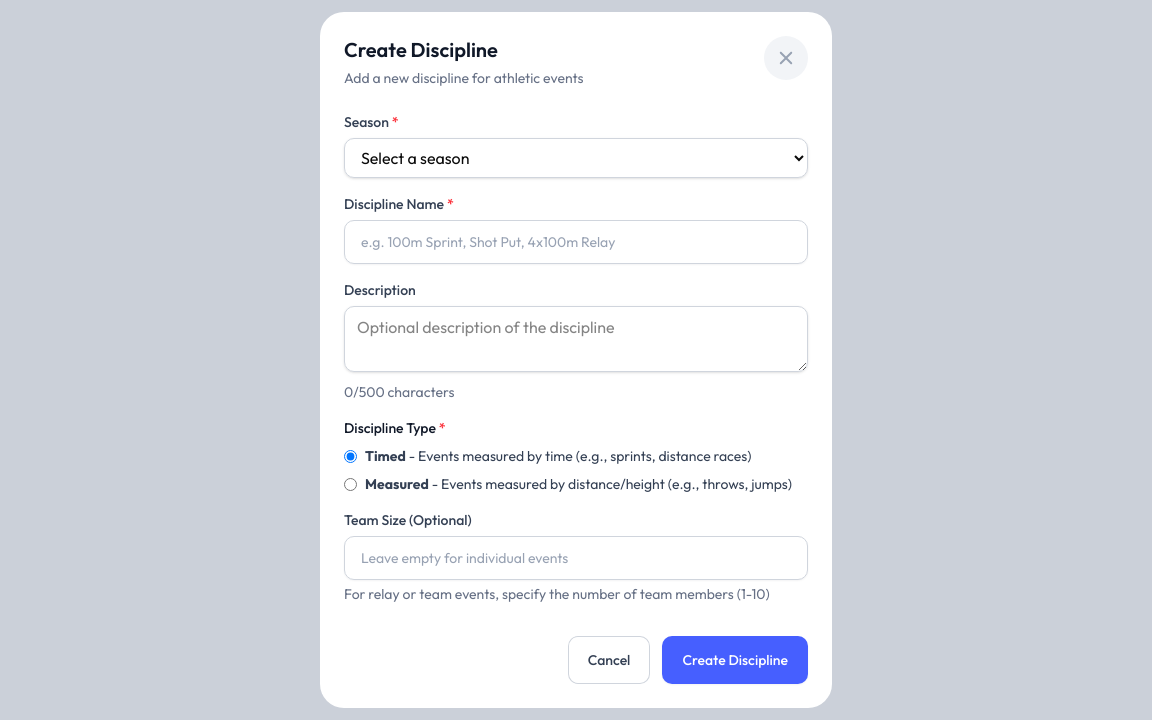
it: DisciplineModal › Create Mode › should validate required fields
The width and height of the screenshot is (1152, 720).
Click the button "Create Discipline" at {"x": 735, "y": 660}, box [662,636,808,684]
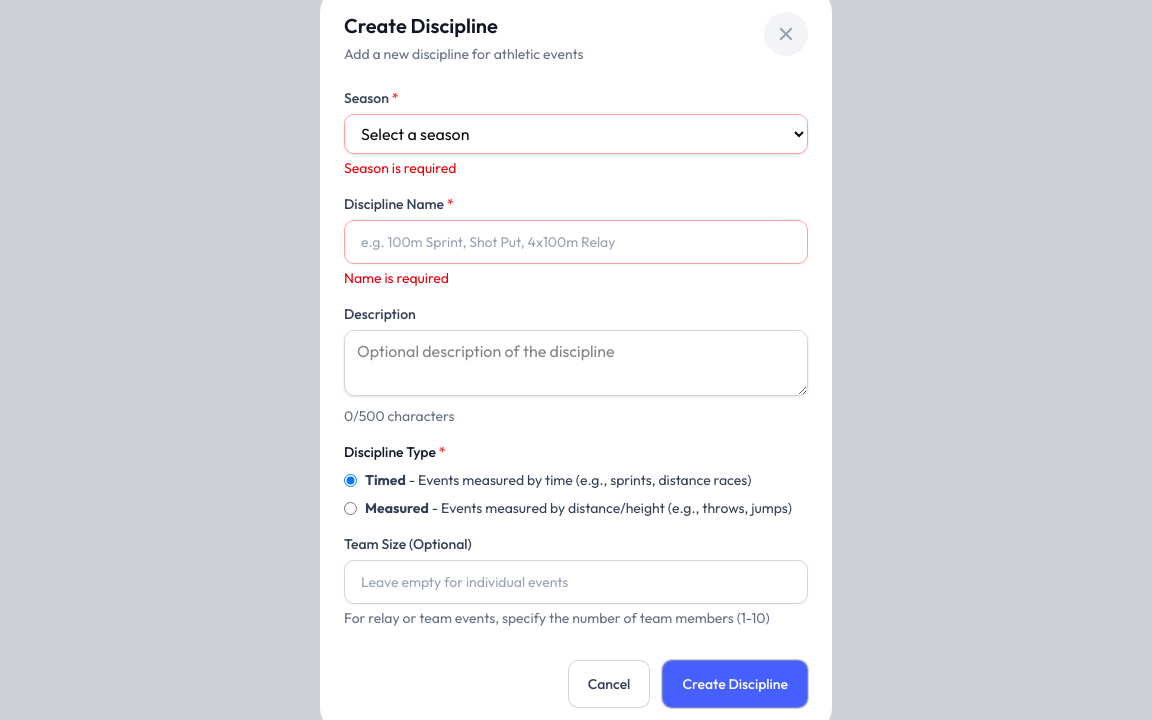
Result: the text "Season is required" is shown at [344,159,456,177]
Result: the text "Name is required" is shown at [344,269,449,287]
